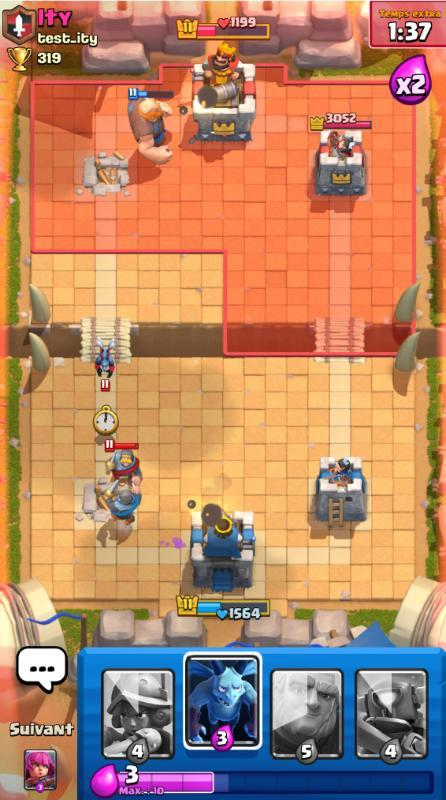chevalier: (104, 439, 142, 486), (104, 480, 142, 525)
gargouille: (94, 336, 114, 391)
geant: (128, 88, 174, 165)
